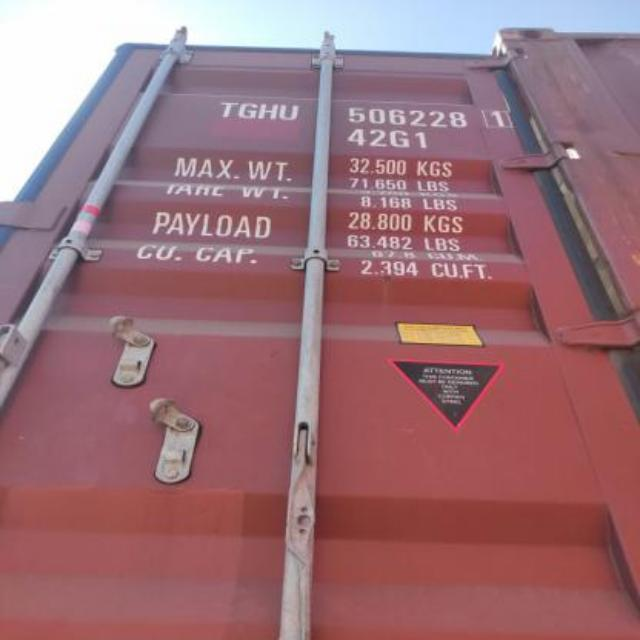0: (368, 109, 386, 125)
1: (489, 110, 505, 128)
2: (409, 108, 427, 128), (430, 111, 446, 127)
5: (346, 106, 366, 124)
6: (388, 109, 406, 127)
8: (449, 112, 467, 128)
G: (239, 100, 257, 120)
H: (259, 103, 279, 121)
T: (219, 102, 237, 118)
U: (281, 104, 299, 120)
